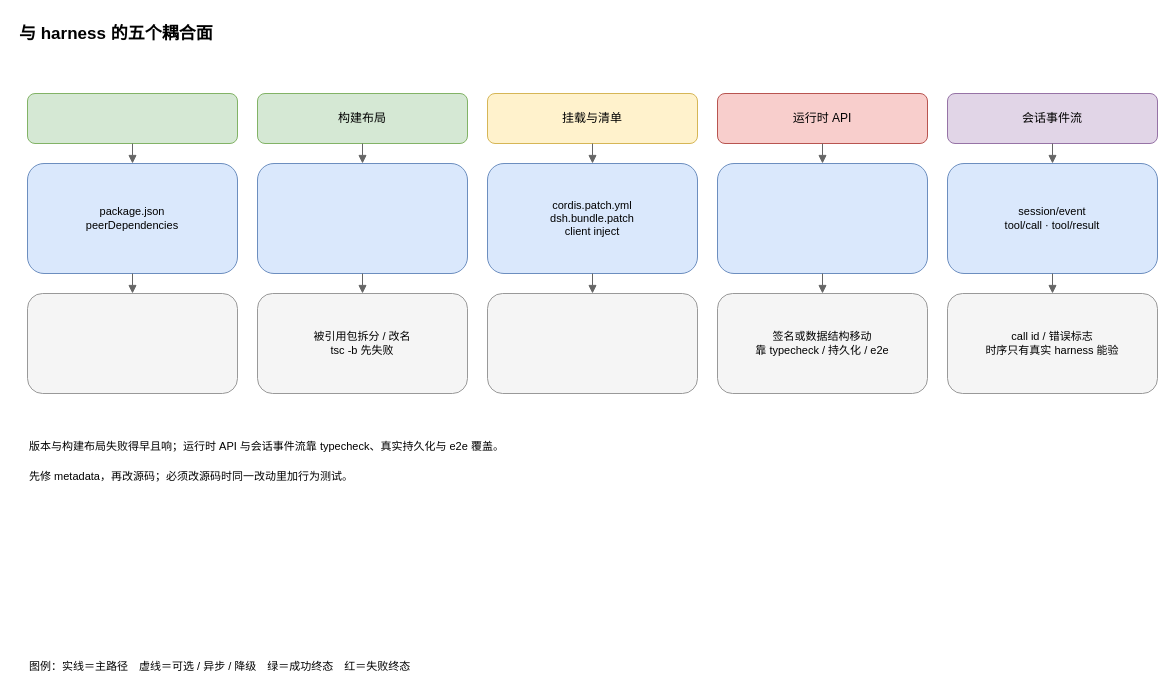
This 1175x694 diagram has some shape labels left out. The shapes that lost their labels are listed below. From the top down, each one's centre as x and y in pixels, then its label:
At [132,118]: "依赖版本".
At [362,218]: "tsconfig*.json references".
At [822,218]: "ctx.a2a · slots.inject KvTable · commands preset / skill / subagent".
At [132,343]: "范围不覆盖运行版本 预检拒绝加载".
At [592,343]: "insert 形式 / 注入列表 / ModuleLoader 契约变化".
